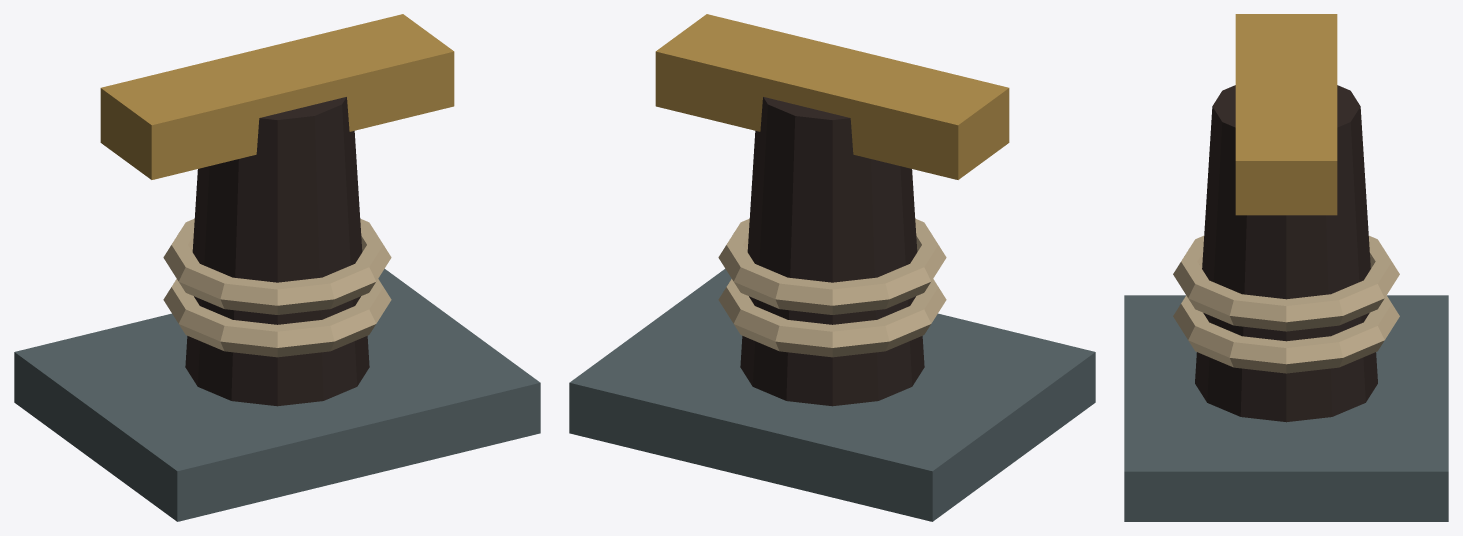
The model's file is PirateCove_MooringBollard_Standard.glb.
3 views of the same model, side by side, from view 1: azimuth 30°, elevation 25°; view 2: azimuth 150°, elevation 25°; view 3: azimuth 270°, elevation 25° (orthographic).
Visible parts, largest first — view 1: PirateCove_MooringBollard_Standard; view 2: PirateCove_MooringBollard_Standard; view 3: PirateCove_MooringBollard_Standard.
Boxes of the visible parts, <box> form: PirateCove_MooringBollard_Standard: <box>14,14,540,521</box>; PirateCove_MooringBollard_Standard: <box>569,14,1095,521</box>; PirateCove_MooringBollard_Standard: <box>1124,14,1448,521</box>.
Bounding box in the file's own units: 0.9 × 0.825 × 0.7.
